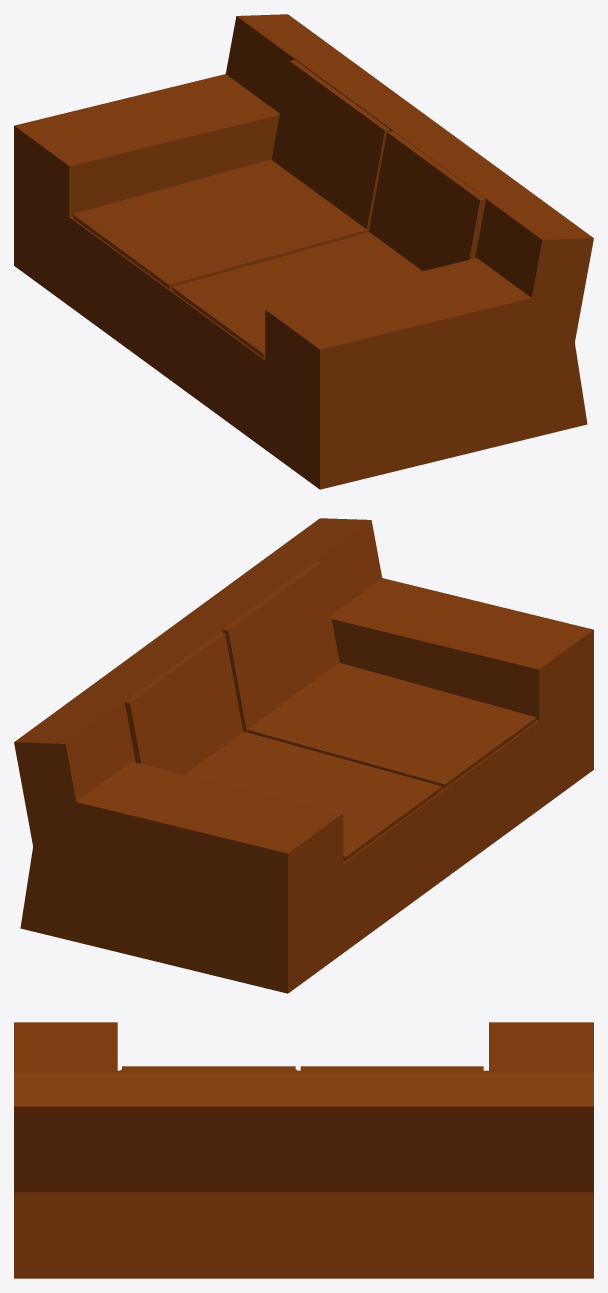
Rendered from Couch.FBX.
3 renders of one model, top to bottom at view 1: azimuth 30°, elevation 25°; view 2: azimuth 150°, elevation 25°; view 3: azimuth 270°, elevation 25°, orthographic. The views are drawn at different scales.
Parts seen in each view (by area): view 1: Box001; view 2: Box001; view 3: Box001.
Boxes of the visible parts, <box> form: Box001: <box>14,14,593,489</box>; Box001: <box>14,518,593,993</box>; Box001: <box>14,1022,593,1278</box>.
Size of the model in its own units: 53.56 by 36.52 by 104.
